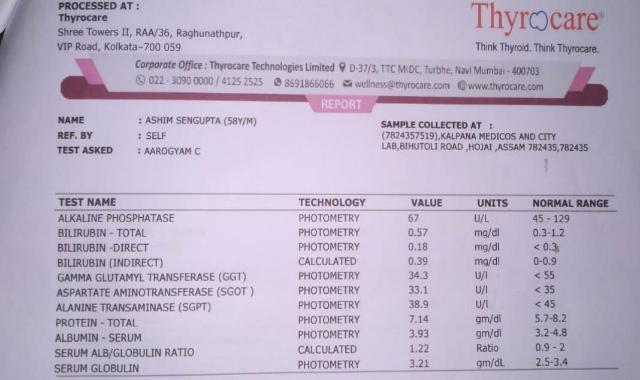Name: (144, 113, 264, 128)
Ref_By: (145, 129, 169, 143)
Reference_Range: (526, 212, 585, 369)
Technology: (296, 210, 366, 375)
Test_Asked: (143, 145, 206, 162)
Test_Name: (52, 210, 266, 378)
Unit: (469, 210, 512, 371)
Value: (403, 211, 440, 371)
